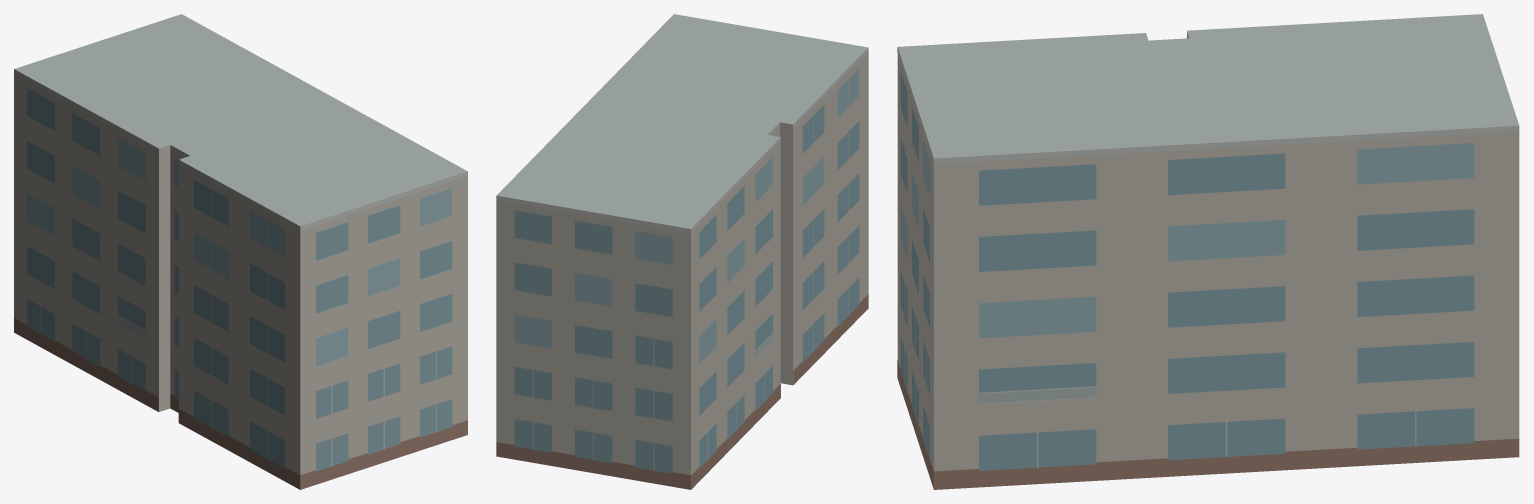
File: survey-upis-32531884.glb
3 renders of one model, left to right at view 1: azimuth 30°, elevation 25°; view 2: azimuth 150°, elevation 25°; view 3: azimuth 270°, elevation 25°, orthographic. The views are drawn at different scales.
Visible parts, largest first — view 1: survey-upis-32531884.tmp; view 2: survey-upis-32531884.tmp; view 3: survey-upis-32531884.tmp.
Part boxes in pixels (x1=…): survey-upis-32531884.tmp: x1=14, y1=14, x2=467, y2=489; survey-upis-32531884.tmp: x1=496, y1=14, x2=868, y2=489; survey-upis-32531884.tmp: x1=897, y1=14, x2=1519, y2=489.
Bounding box in the file's own units: 13.1 × 14 × 23.82.
